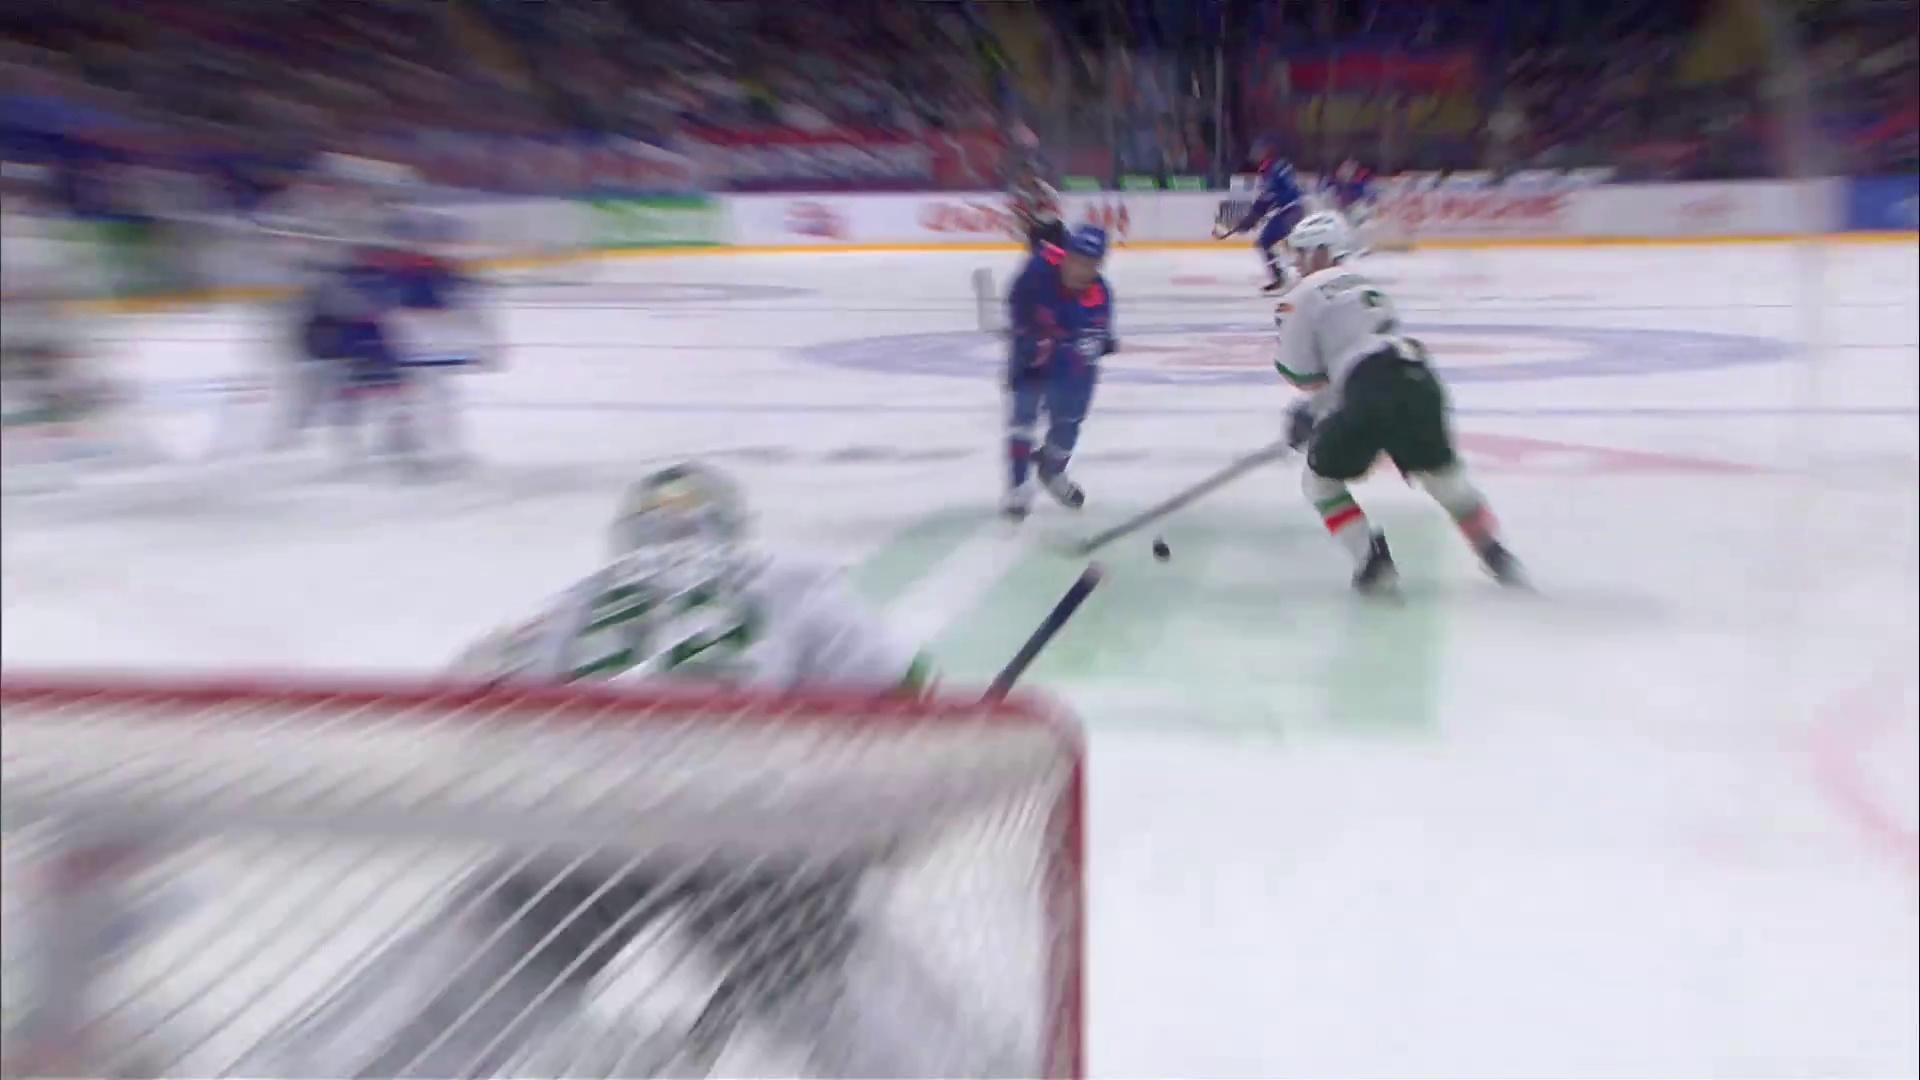ball: (1154, 541, 1174, 564)
